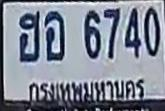0: (143, 6, 159, 56)
4: (124, 7, 140, 57)
6: (84, 9, 100, 58)
7: (103, 8, 120, 58)
A43: (44, 10, 64, 60)
A44: (18, 10, 40, 60)
BKK: (26, 74, 149, 102)
